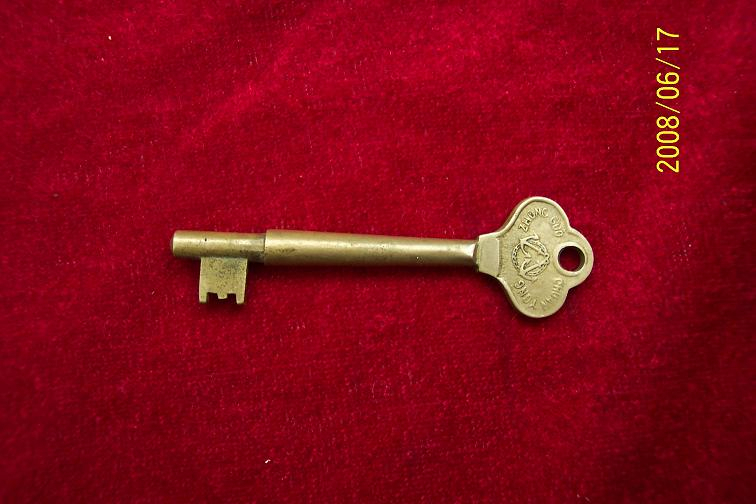key: (168, 191, 600, 324)
